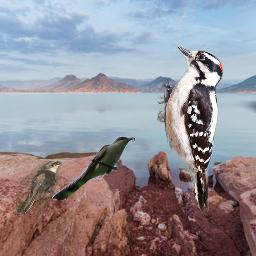Cuckoo: (52, 135, 135, 200), (16, 161, 62, 215)
Woodpecker: (157, 45, 225, 215)
